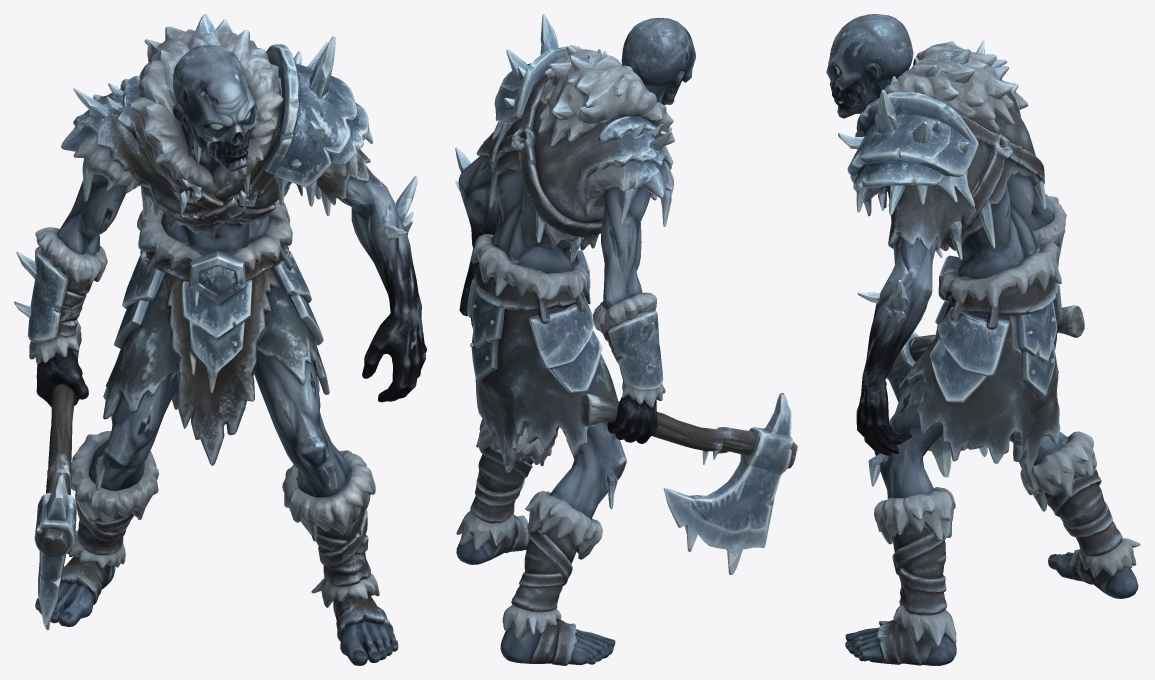
File: frostbite_husk.glb
3 views of the same model, side by side, from view 1: azimuth 30°, elevation 25°; view 2: azimuth 150°, elevation 25°; view 3: azimuth 270°, elevation 25° (orthographic). The views are drawn at different scales.
Visible parts, largest first — view 1: Mesh_0; view 2: Mesh_0; view 3: Mesh_0.
Part boxes in pixels (x1,y1,x2,y2): Mesh_0: [14, 14, 426, 665]; Mesh_0: [455, 14, 797, 665]; Mesh_0: [826, 14, 1140, 665].
Size of the model in its own units: 1.2 by 1.9 by 0.9551.
Materials: 1 (1 with a texture image).
